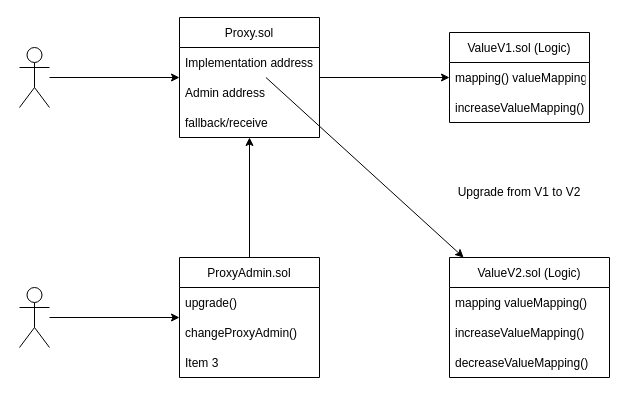
Image size: 627x395. Some labels were removed from this diagram. Each missing label, with the centre of its shape:
Admin: the point at 34,317
User: the point at 34,77
